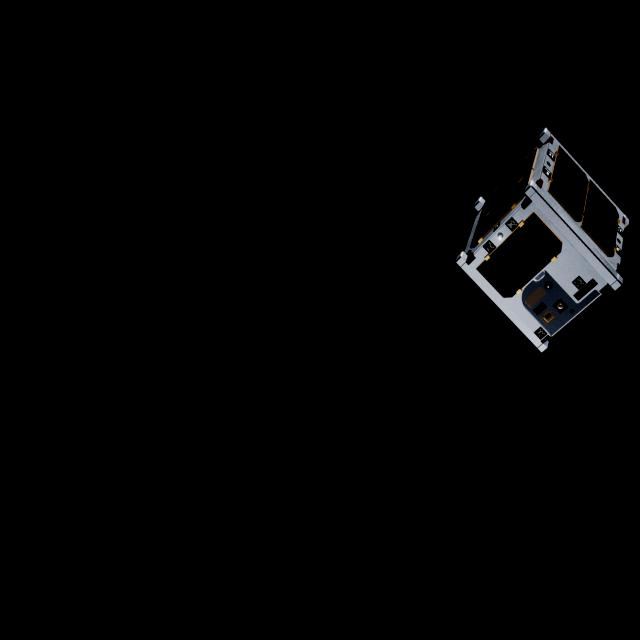satellite: (455, 126, 634, 360)
